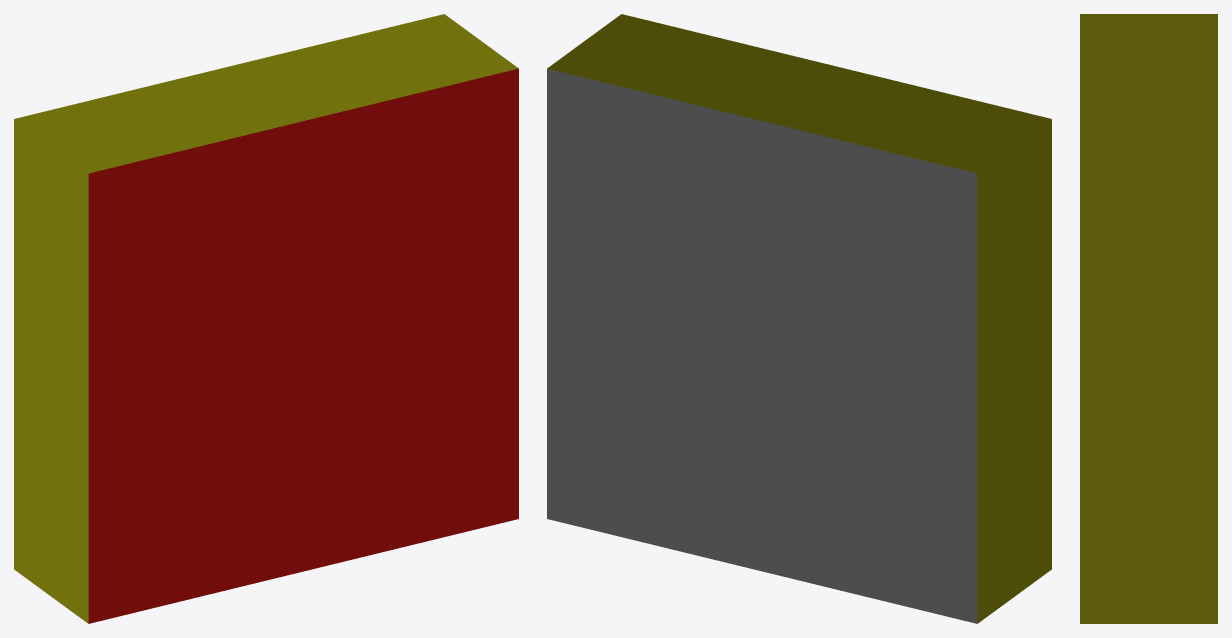
File: idf.obj
3 renders of one model, left to right at view 1: azimuth 30°, elevation 25°; view 2: azimuth 150°, elevation 25°; view 3: azimuth 270°, elevation 25°, orthographic. The views are drawn at different scales.
Bounding box in the file's own units: 15.24 × 15.24 × 4.57.
